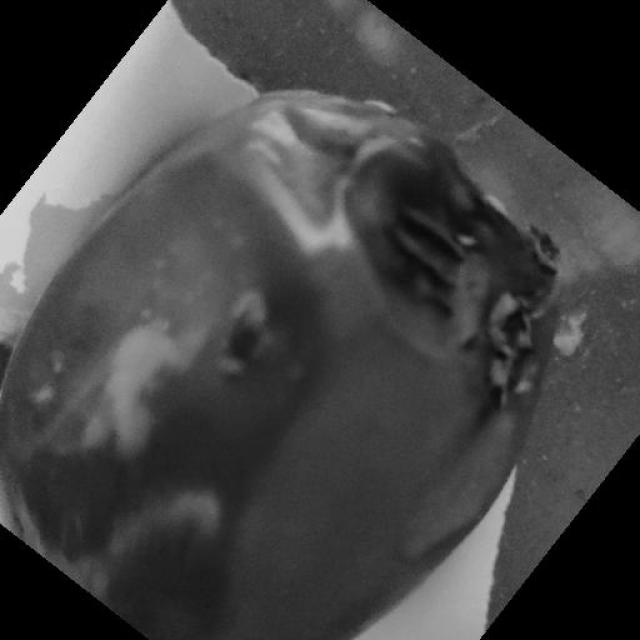Stale_tomato: (18, 55, 566, 634)
